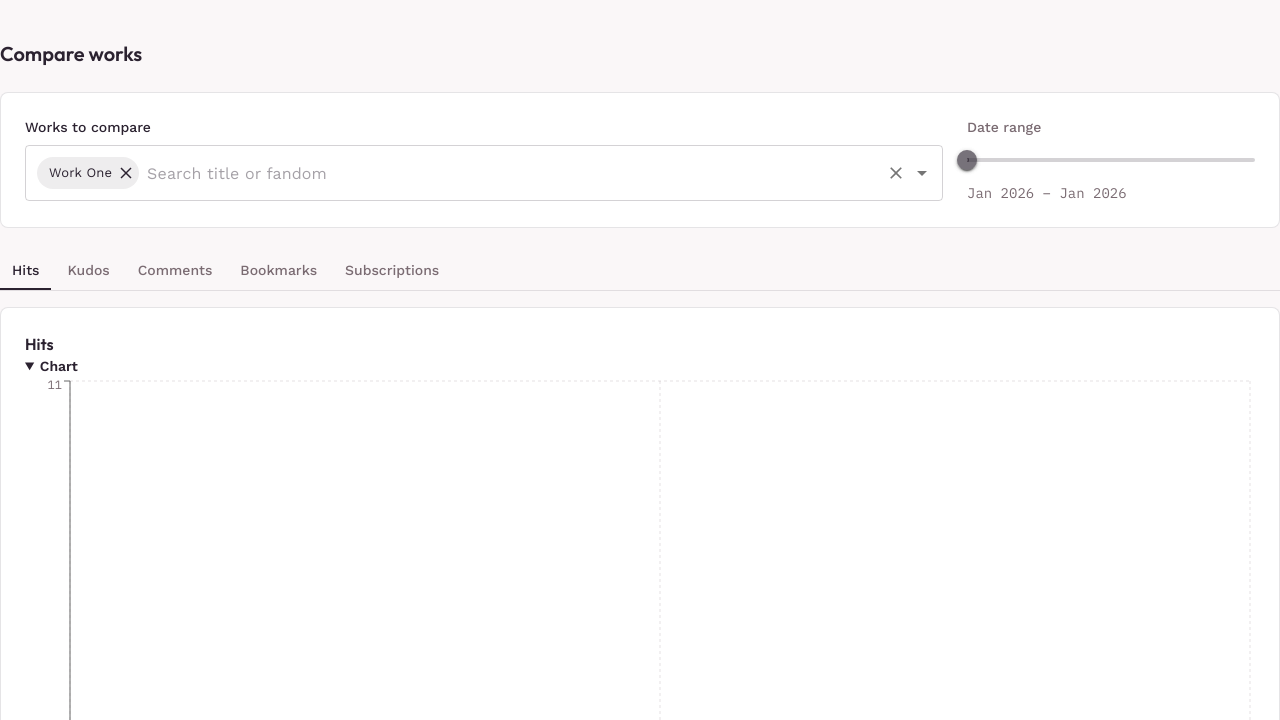
Test case: WorkComparisonSection: Bookmarks sub-tab shell › reveals a nested role=tablist [By Type | By Work] once the Bookmarks tab is selected
Click the tab "Bookmarks" at (279, 271), box [228,252,329,290]
(page scrolled)
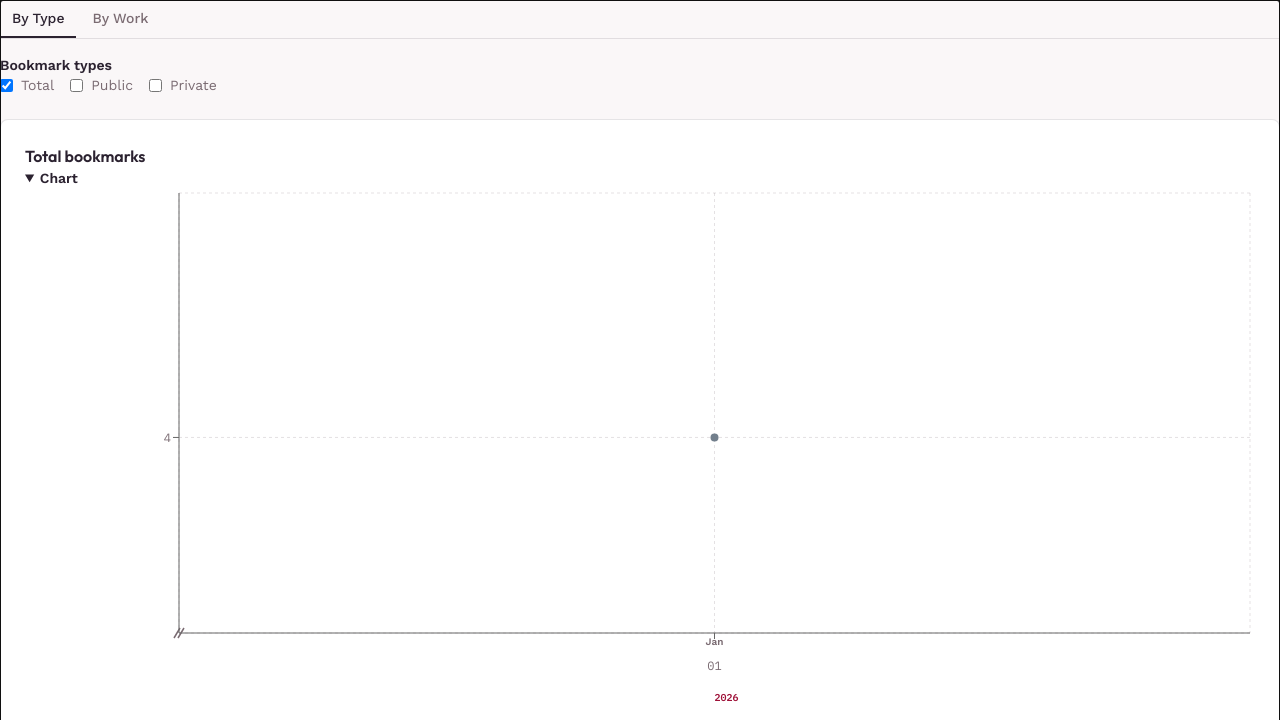
Check: the tabs read "By Type", "By Work", in this order, box [0,0,76,38]; [80,0,160,38]
